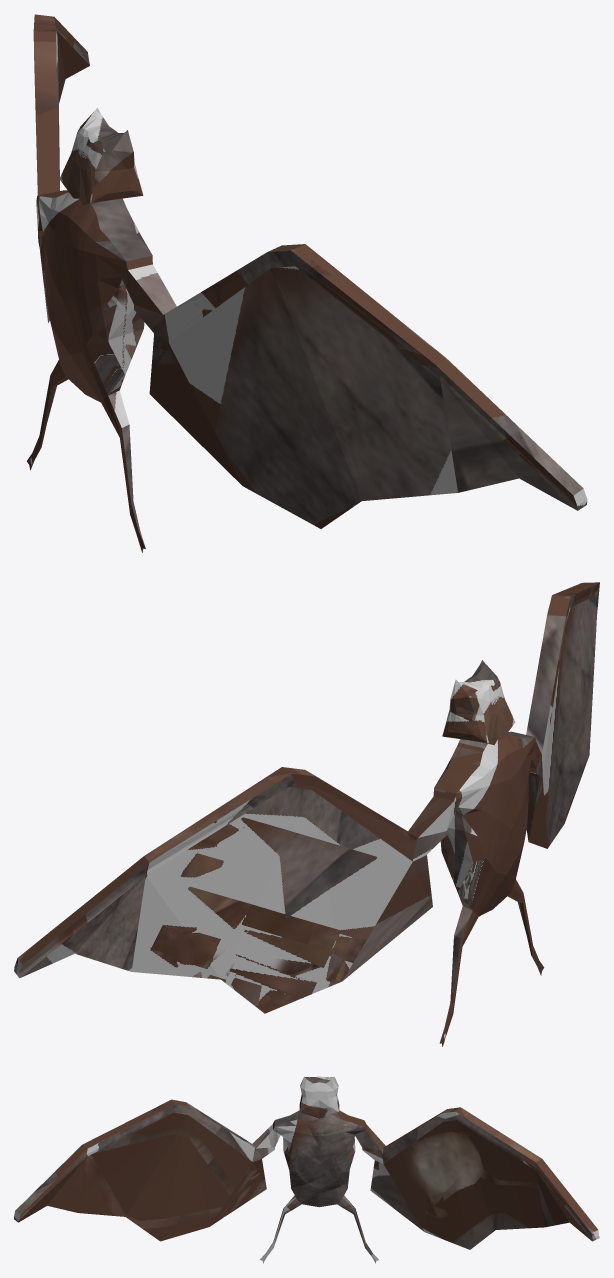
File: Enemigo117.obj
3 renders of one model, top to bottom at view 1: azimuth 30°, elevation 25°; view 2: azimuth 150°, elevation 25°; view 3: azimuth 270°, elevation 25°, orthographic. The views are drawn at different scales.
Parts seen in each view (by area): view 1: Plano; view 2: Plano; view 3: Plano.
Boxes of the visible parts, x1=… form: Plano: x1=27, y1=14, x2=587, y2=552; Plano: x1=14, y1=582, x2=599, y2=1046; Plano: x1=14, y1=1076, x2=599, y2=1263.
Bounding box in the file's own units: 0.6129 × 0.7578 × 2.08.
Materials: 1 (1 with a texture image).
